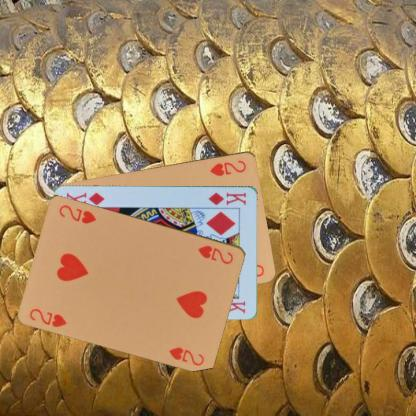2h: (27, 306, 68, 328), (196, 243, 234, 265), (207, 158, 248, 178)
Kd: (206, 189, 247, 206)
